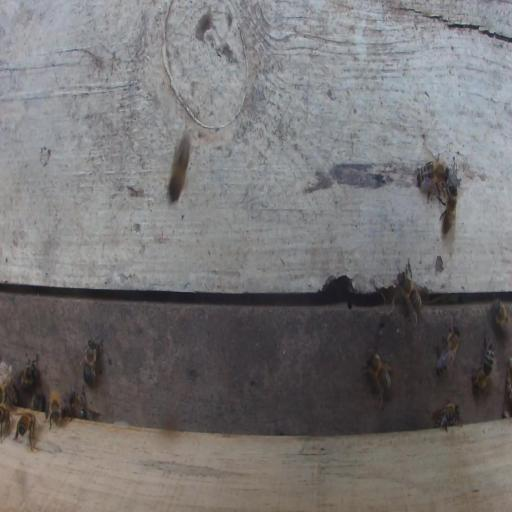nonpollenbee: (390, 253, 431, 327), (416, 144, 453, 208), (362, 350, 393, 411), (75, 331, 102, 385), (170, 133, 190, 204), (436, 182, 458, 246), (471, 332, 494, 392), (435, 325, 461, 378), (432, 401, 462, 433), (13, 410, 37, 450), (46, 388, 64, 429), (490, 299, 511, 333), (17, 356, 38, 388), (69, 388, 87, 419), (0, 403, 10, 441), (30, 392, 46, 411)
